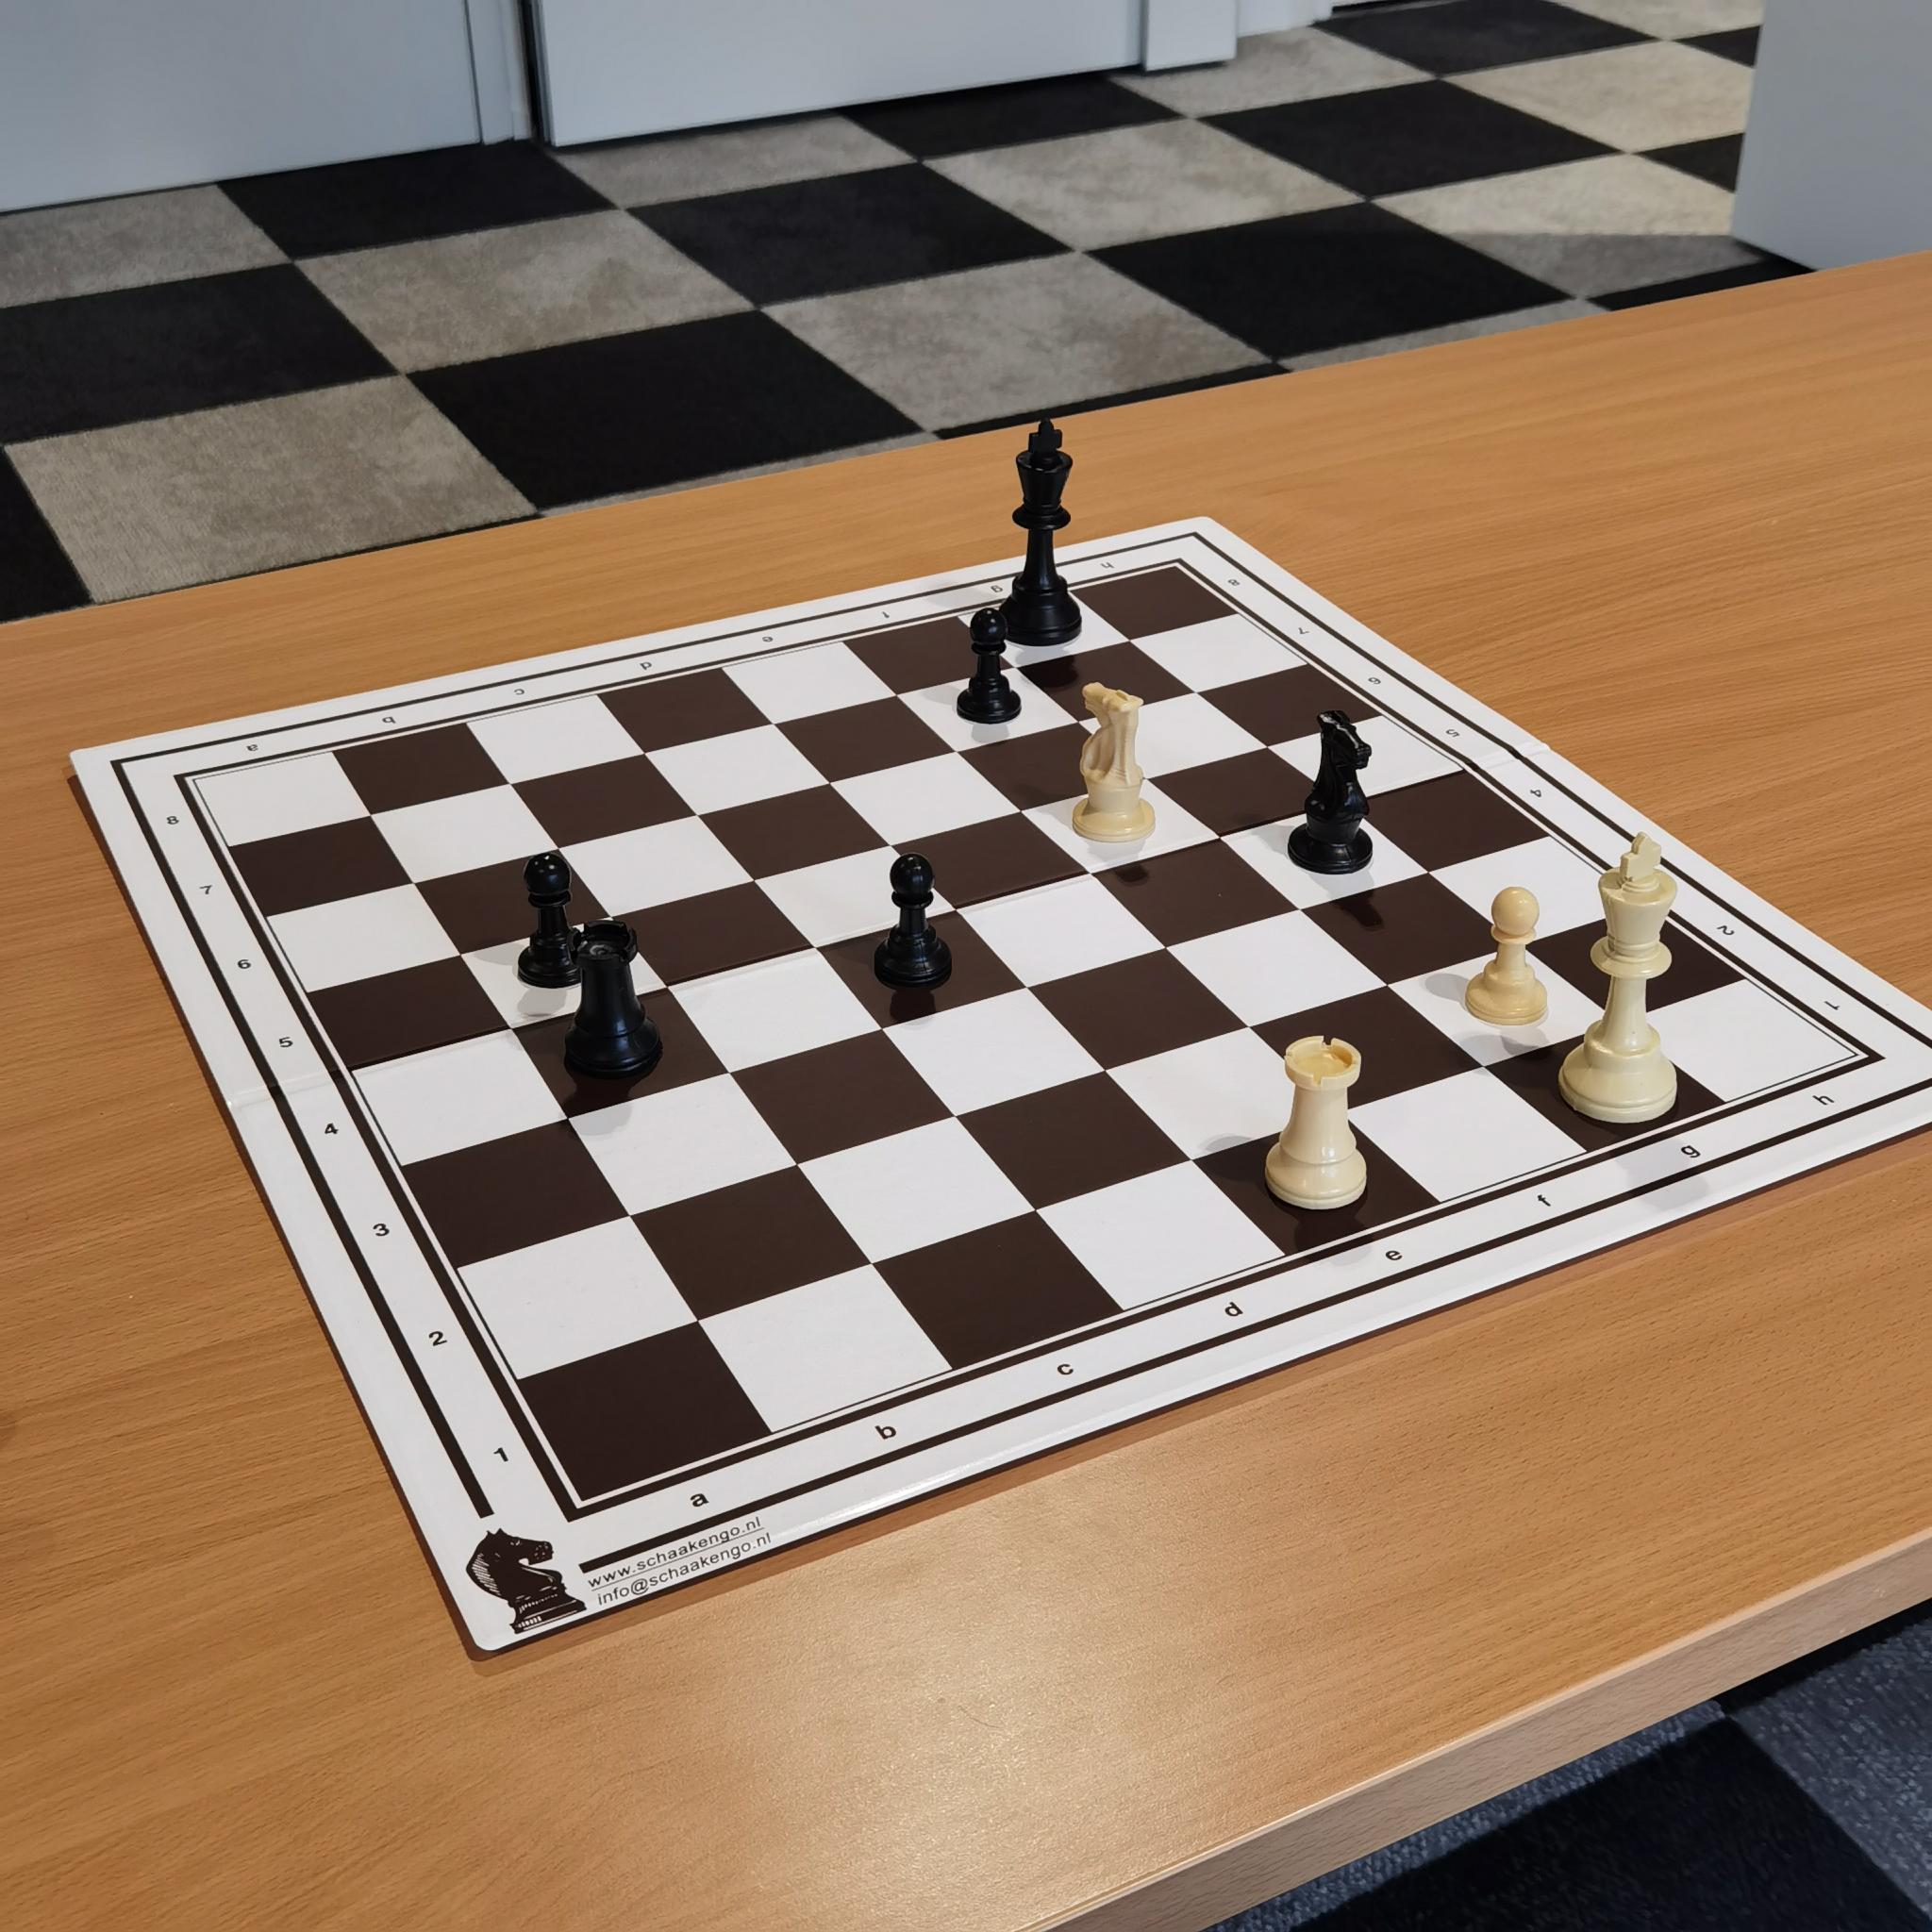corners: (1826, 1017, 1882, 1086), (552, 1472, 610, 1525), (159, 763, 226, 805), (1154, 550, 1201, 586)
eight: (156, 798, 203, 847), (1219, 559, 1260, 594)
one: (472, 1422, 534, 1493), (1812, 982, 1852, 1023)
